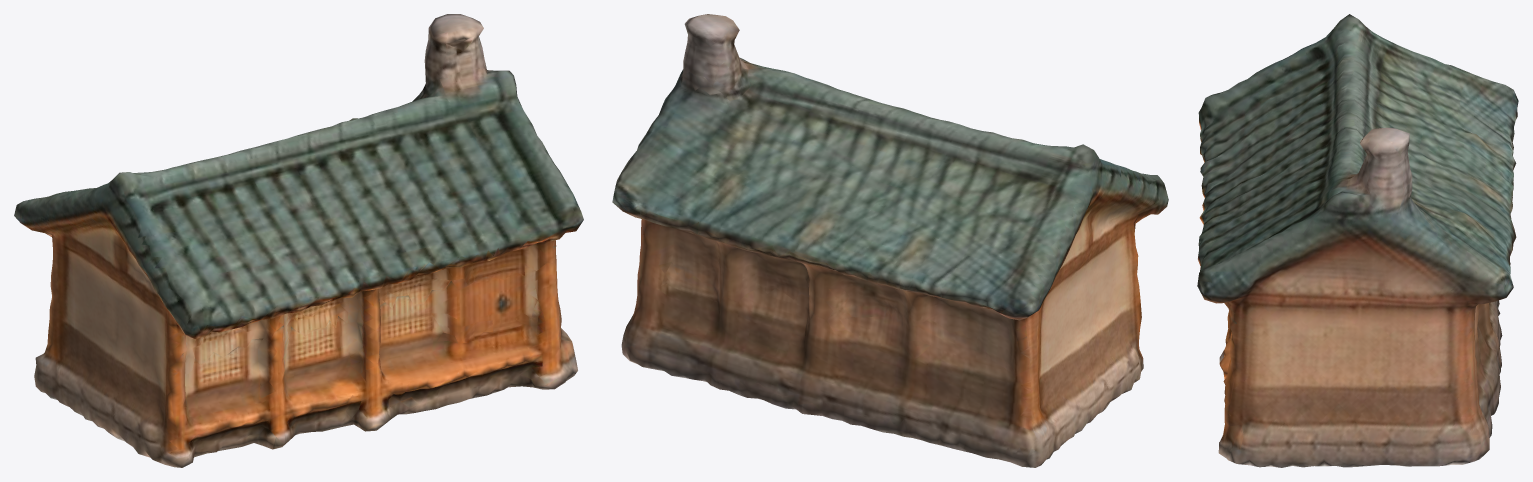
The model's file is anchae.glb.
The picture shows the model from 3 angles, left to right: view 1: azimuth 30°, elevation 25°; view 2: azimuth 150°, elevation 25°; view 3: azimuth 270°, elevation 25°; orthographic projection.
Parts seen in each view (by area): view 1: world; view 2: world; view 3: world.
Part boxes in pixels (x1,y1,x2,y2): world: (14,14,583,467); world: (612,14,1168,467); world: (1197,14,1518,467).
Bounding box in the file's own units: 5.47 × 3.8 × 3.5.
Materials: 1 (1 with a texture image).
